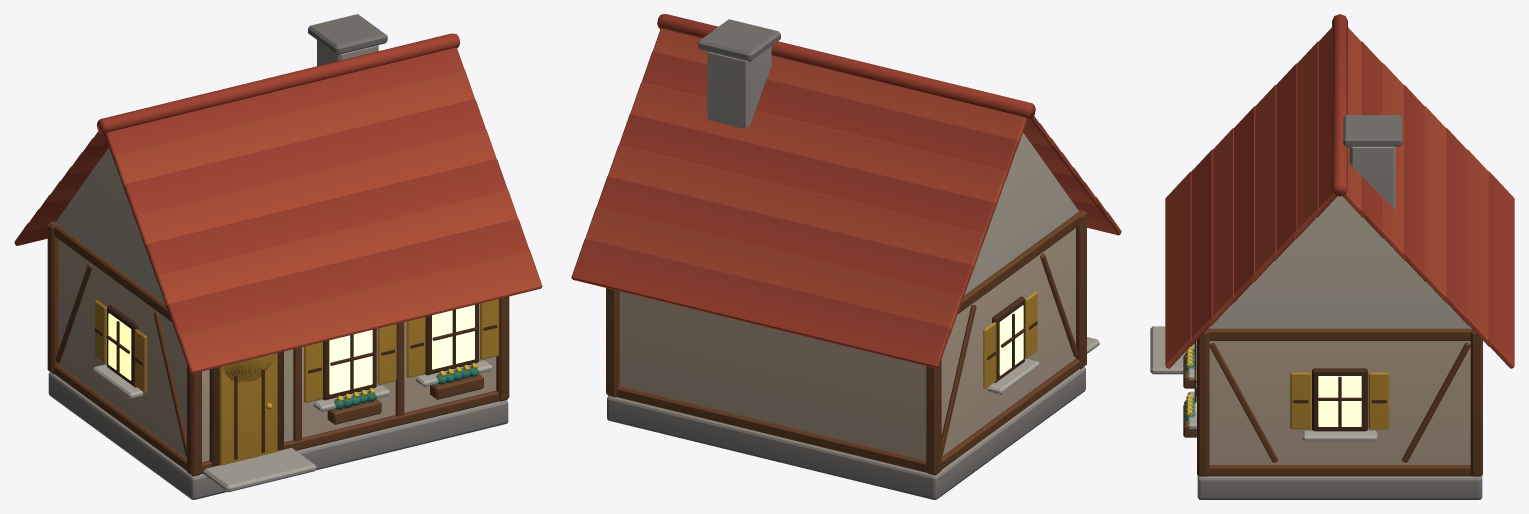
Rendered from cottage_b.glb.
3 views of the same model, side by side, from view 1: azimuth 30°, elevation 25°; view 2: azimuth 150°, elevation 25°; view 3: azimuth 270°, elevation 25° (orthographic). The views are drawn at different scales.
Visible parts, largest first — view 1: cottage_b; view 2: cottage_b; view 3: cottage_b.
Boxes of the visible parts, box(x1,y1,x2,y2) form: cottage_b: box(14, 14, 542, 499); cottage_b: box(571, 14, 1121, 499); cottage_b: box(1150, 14, 1514, 499).
Bounding box in the file's own units: 6.5 × 6.04 × 5.86.
